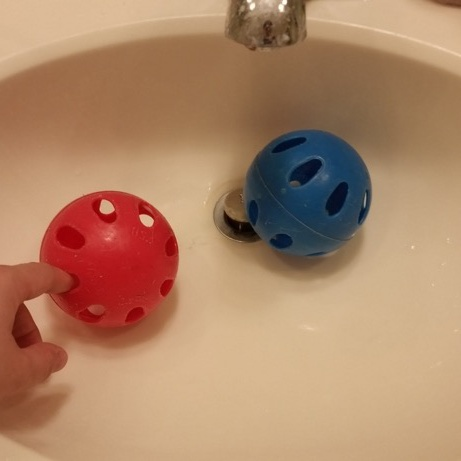ball: (35, 189, 185, 333), (241, 124, 376, 262)
